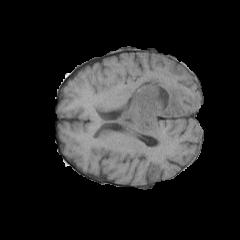glioma: (113, 76, 186, 145)
